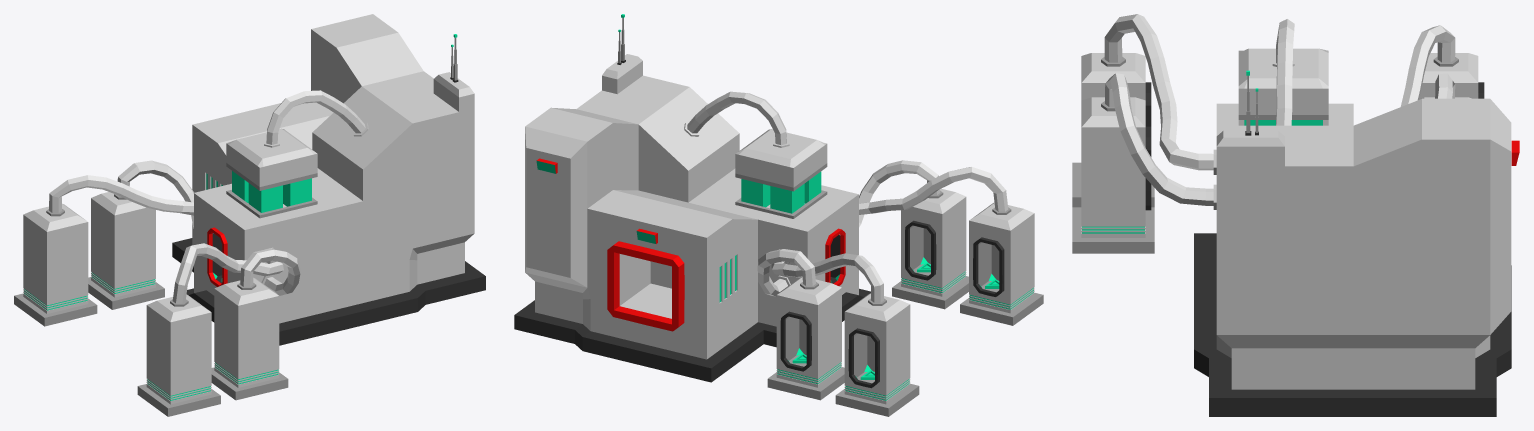
File: Carbon_Compressor.fbx
3 renders of one model, left to right at view 1: azimuth 30°, elevation 25°; view 2: azimuth 150°, elevation 25°; view 3: azimuth 270°, elevation 25°, orthographic. The views are drawn at different scales.
Parts seen in each view (by area): view 1: Carbon_Compressor, Key_Item_Slot.010, Key_Item_Slot.008, Key_Item_Slot.009, Key_Item_Slot.007, Generator_Top, Cable.007, Cable.009, Cable.010, Cable.008, Cable.006; view 2: Carbon_Compressor, Key_Item_Slot.008, Key_Item_Slot.010, Key_Item_Slot.007, Key_Item_Slot.009, Generator_Top, Cable.009, Cable.010, Cable.007, Cable.006, Cable.008; view 3: Carbon_Compressor, Key_Item_Slot.009, Generator_Top, Cable.009, Cable.008, Key_Item_Slot.010, Key_Item_Slot.008, Cable.007, Cable.010, Cable.006.
Boxes of the visible parts, x1,y1,x2,y2 form: Carbon_Compressor: (172, 14, 485, 345); Key_Item_Slot.010: (137, 294, 220, 416); Key_Item_Slot.008: (14, 203, 97, 326); Key_Item_Slot.009: (211, 277, 288, 400); Key_Item_Slot.007: (88, 192, 164, 309); Generator_Top: (226, 128, 317, 218); Cable.007: (49, 175, 193, 215); Cable.009: (172, 243, 283, 303); Cable.010: (266, 90, 365, 144); Cable.008: (240, 248, 300, 295); Cable.006: (117, 160, 193, 228); Carbon_Compressor: (514, 14, 870, 382); Key_Item_Slot.008: (835, 293, 919, 416); Key_Item_Slot.010: (960, 202, 1043, 325); Key_Item_Slot.007: (767, 277, 844, 400); Key_Item_Slot.009: (892, 188, 968, 309); Generator_Top: (735, 129, 827, 218); Cable.009: (859, 167, 1008, 214); Cable.010: (687, 91, 786, 144); Cable.007: (771, 253, 883, 302); Cable.006: (757, 249, 815, 296); Cable.008: (859, 160, 940, 227); Carbon_Compressor: (1194, 70, 1519, 416); Key_Item_Slot.009: (1072, 97, 1154, 253); Generator_Top: (1238, 48, 1328, 125); Cable.009: (1104, 14, 1213, 170); Cable.008: (1105, 73, 1213, 205); Key_Item_Slot.010: (1072, 53, 1154, 207); Key_Item_Slot.008: (1419, 53, 1484, 98); Cable.007: (1400, 25, 1455, 106); Cable.010: (1276, 19, 1294, 125); Cable.006: (1435, 73, 1455, 98).
Bounding box in the file's own units: 877 × 566 × 684.
